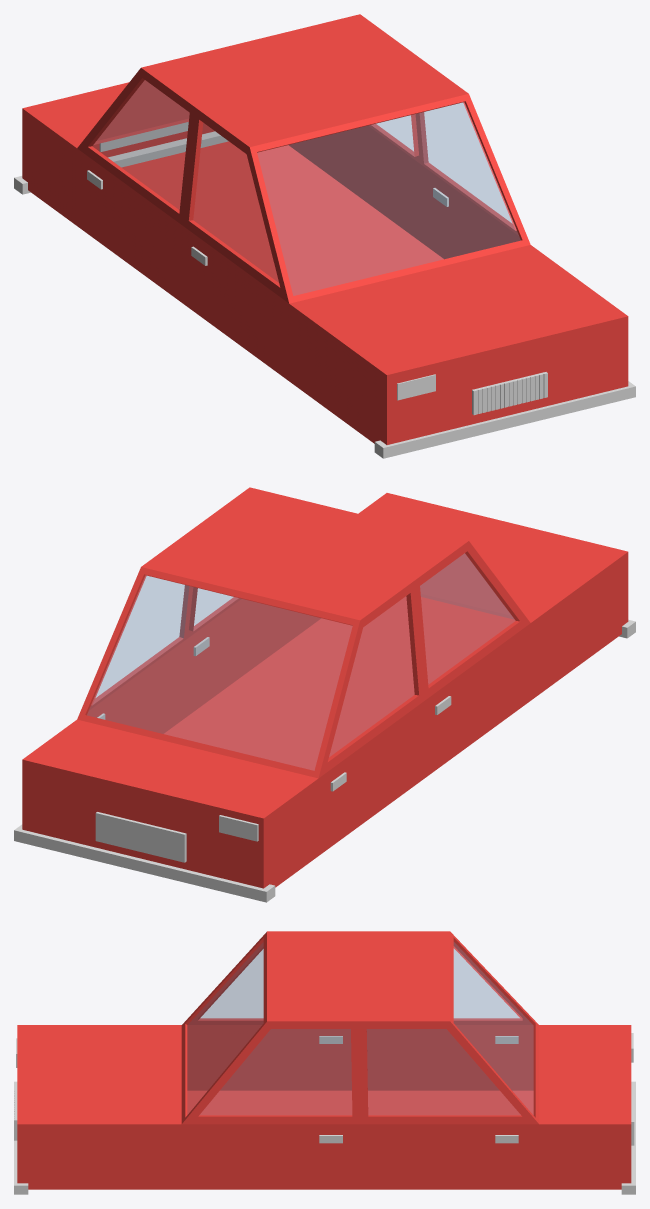
File: Car.glb
The picture shows the model from 3 angles, top to bottom: view 1: azimuth 30°, elevation 25°; view 2: azimuth 150°, elevation 25°; view 3: azimuth 270°, elevation 25°; orthographic projection. The views are drawn at different scales.
Parts seen in each view (by area): view 1: Car Body, Cube.005, Cube, Cube.007, Cube.006, Light.004; view 2: Car Body, Cube.007, Cube.006, Back Light; view 3: Car Body, Cube.007, Cube.005.
Part boxes in pixels (x1=…): Car Body: x1=22, y1=14, x2=628, y2=444; Cube.005: x1=374, y1=381, x2=635, y2=458; Cube: x1=472, y1=372, x2=547, y2=415; Cube.007: x1=14, y1=131, x2=228, y2=194; Cube.006: x1=99, y1=122, x2=188, y2=151; Light.004: x1=397, y1=374, x2=435, y2=400; Car Body: x1=22, y1=487, x2=628, y2=888; Cube.007: x1=14, y1=824, x2=275, y2=902; Cube.006: x1=95, y1=812, x2=186, y2=862; Back Light: x1=219, y1=815, x2=258, y2=841; Car Body: x1=17, y1=931, x2=631, y2=1189; Cube.007: x1=621, y1=1081, x2=635, y2=1194; Cube.005: x1=14, y1=1081, x2=28, y2=1194.
Bounding box in the file's own units: 0.5512 × 0.4116 × 1.4.
